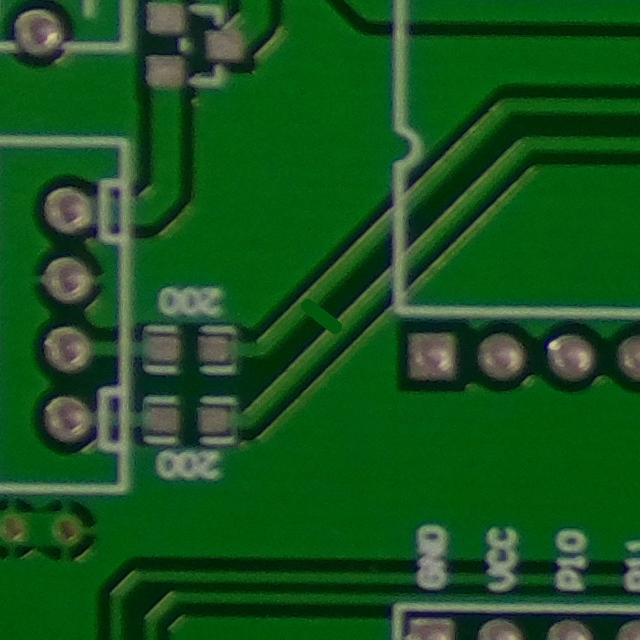short: (277, 285, 363, 355)
